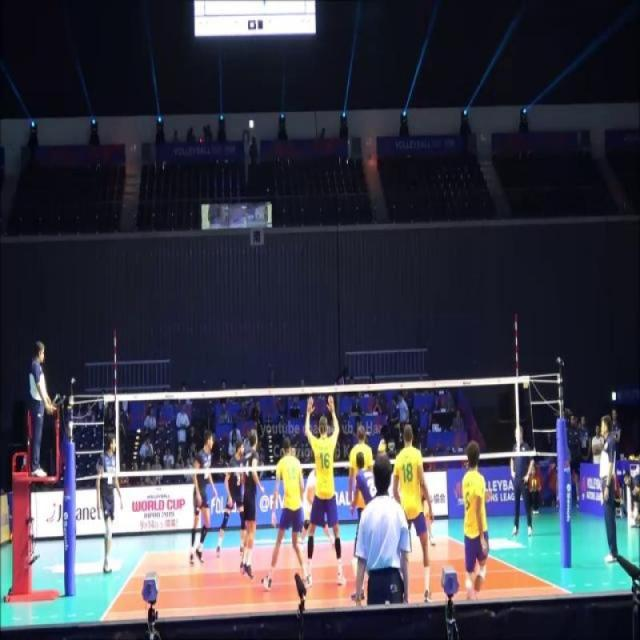volleyball: (376, 438, 387, 456), (532, 478, 538, 490)
